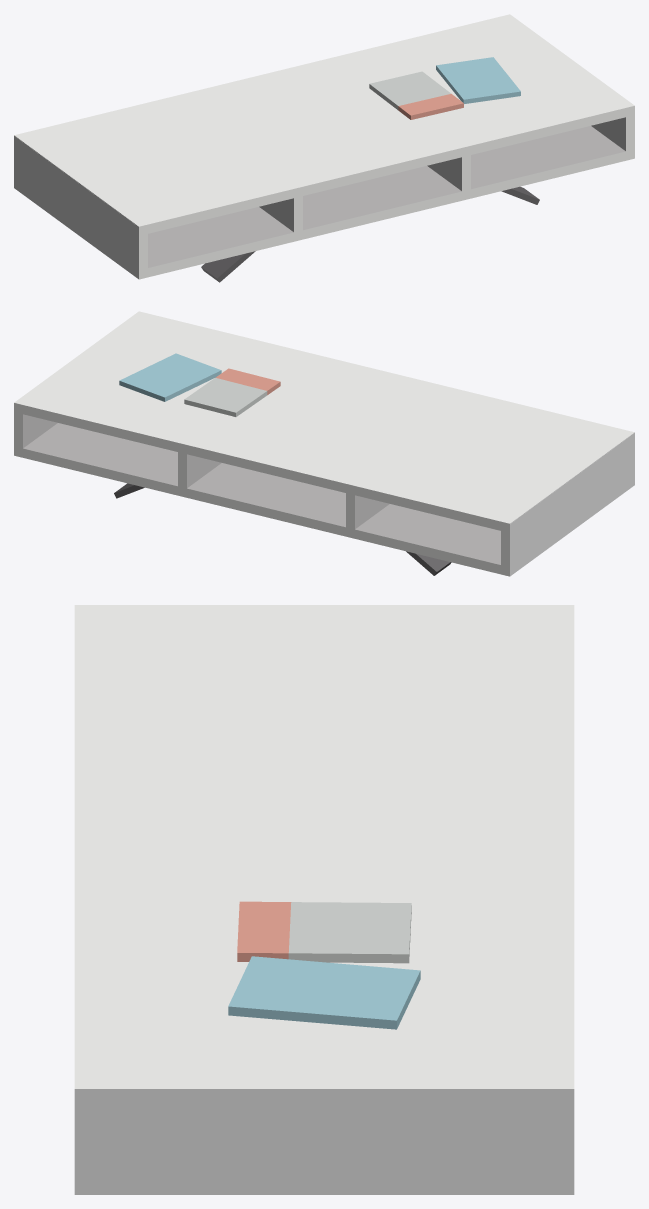
Rendered from white_furniture.obj.
3 views of the same model, one above another, from view 1: azimuth 30°, elevation 25°; view 2: azimuth 150°, elevation 25°; view 3: azimuth 270°, elevation 25° (orthographic). The views are drawn at different scales.
Visible parts, largest first — view 1: pasted__pCube5; view 2: pasted__pCube5; view 3: pasted__pCube5.
Boxes of the visible parts, box(x1,y1,x2,y2) form: pasted__pCube5: box(14, 14, 634, 282); pasted__pCube5: box(14, 311, 634, 576); pasted__pCube5: box(74, 605, 574, 1194).
Size of the model in its own units: 3.21 by 0.5723 by 1.4.
8 materials, 8 textured.
